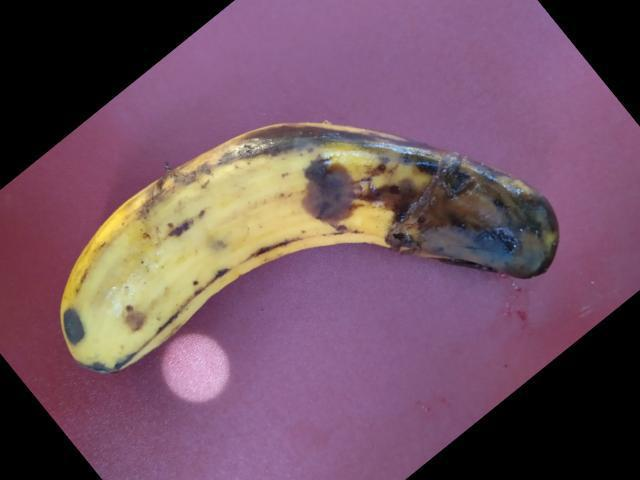rotten: (20, 84, 575, 379)
